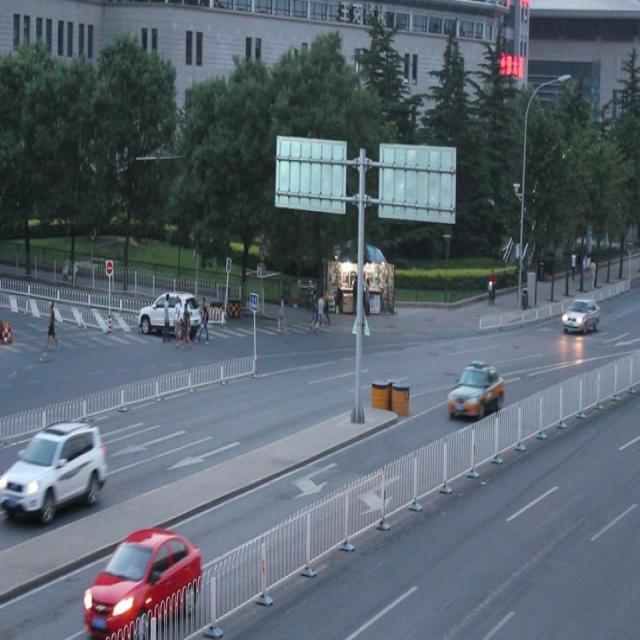car: (84, 524, 204, 630), (10, 418, 106, 523), (446, 362, 505, 419), (138, 288, 202, 339), (561, 296, 598, 332)
